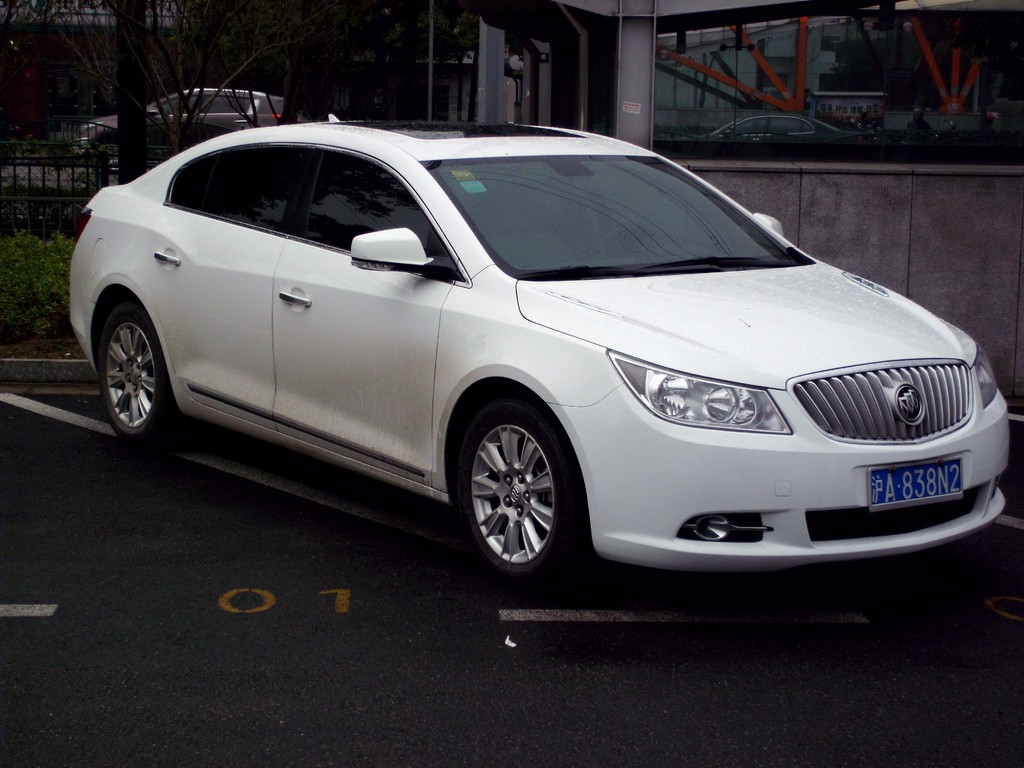mobil: (48, 75, 1003, 641)
